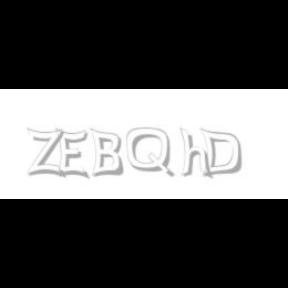B: (89, 128, 123, 178)
D: (198, 128, 242, 178)
E: (56, 128, 88, 180)
Q: (127, 128, 173, 178)
Z: (26, 128, 64, 178)
h: (180, 128, 214, 180)
